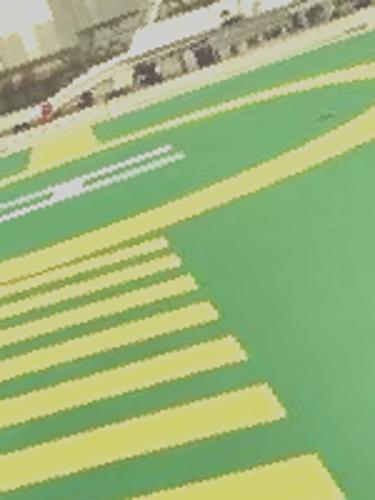Apron: (2, 57, 375, 265)
